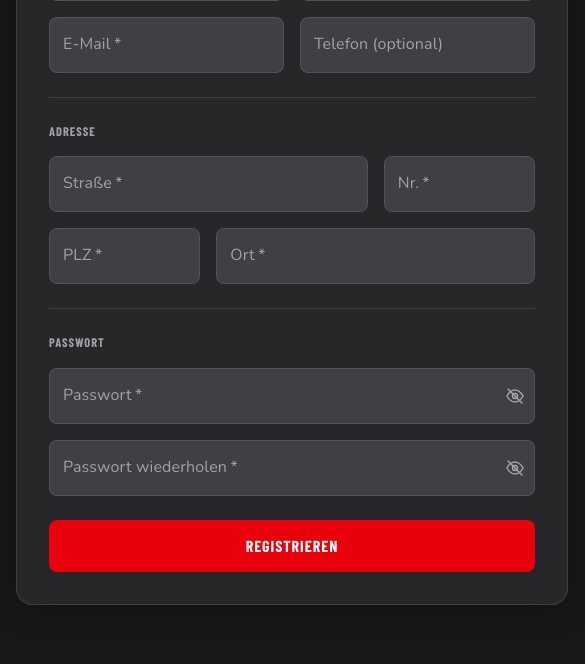
Test: US16 – Registrierungsformular (Black-Box) › Passwort 7 Zeichen (Grenzwert unter) → Fehler "Mindestens 8 Zeichen"
(page scrolled)
Type "1234567" into the password field labelled "Passwort *" at (269, 396), box [49,368,489,424]
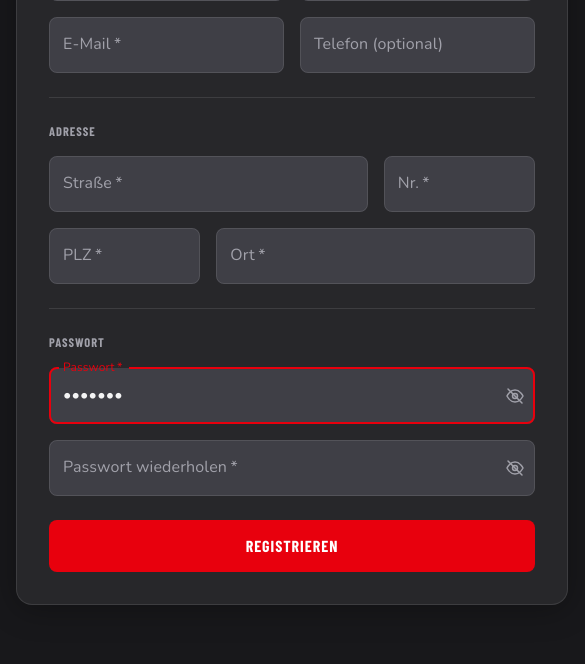
Click the button "Registrieren" at (292, 546), box [49,520,535,572]
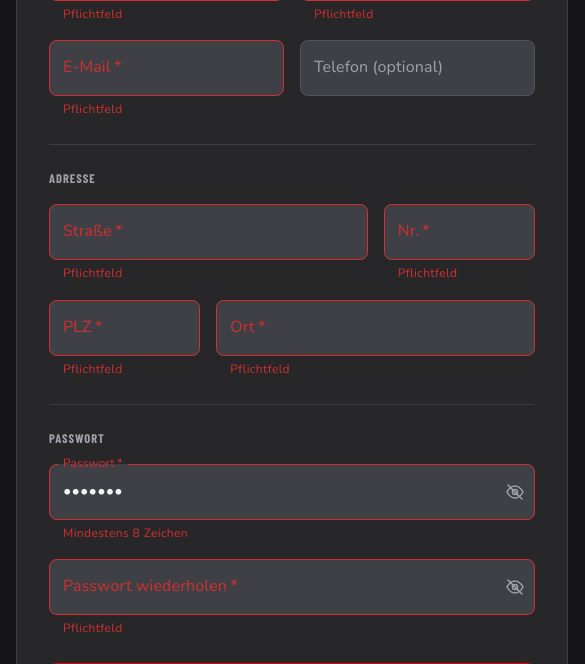
Expected: the element labelled "Passwort * Mindestens 8 Zeichen" is shown, [49,464,535,544]
